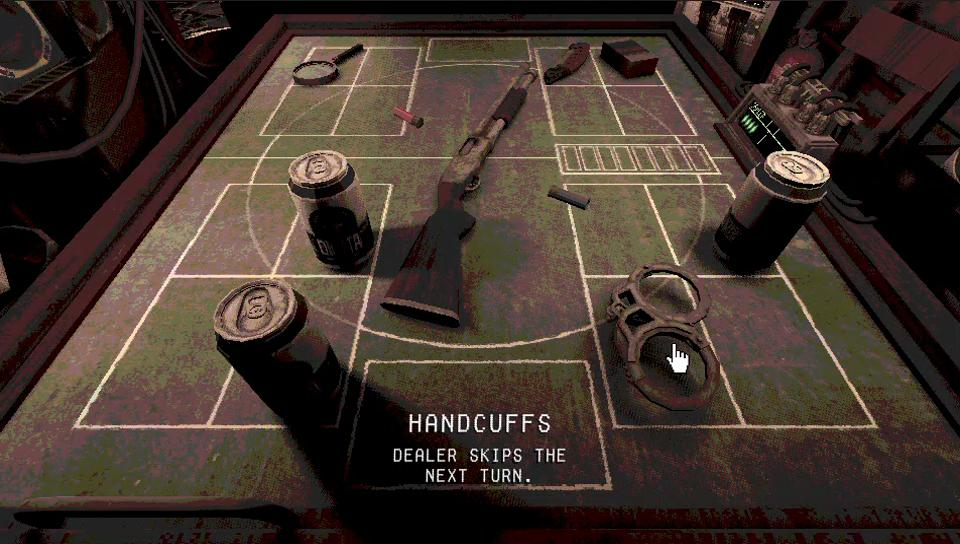ally: (0, 146, 955, 531)
can: (215, 280, 339, 423), (714, 147, 830, 274), (288, 150, 375, 268)
cigar: (599, 38, 658, 78)
doubledamage: (542, 42, 590, 84)
emptyspace: (71, 274, 248, 429), (703, 274, 880, 425), (169, 182, 295, 278), (566, 179, 677, 275)
enemyspace: (218, 23, 758, 143)
gun: (381, 66, 537, 328)
handcuff: (607, 264, 721, 413)
lens: (293, 43, 363, 84)
